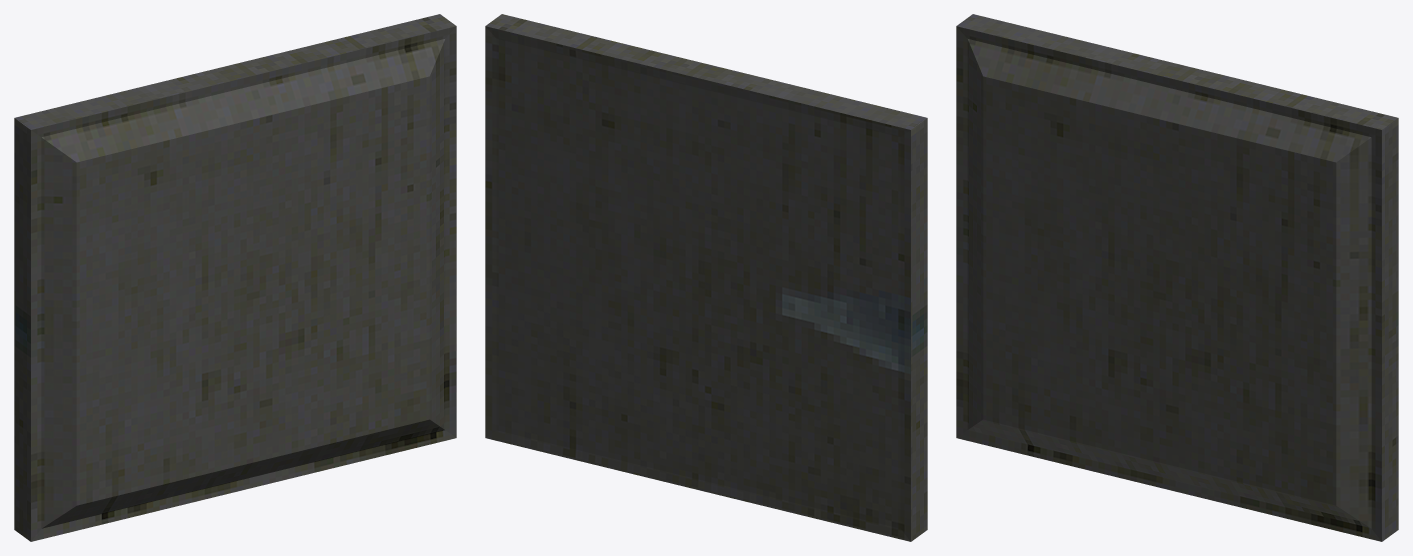
File: SM_BodyStorage_DR.fbx
The picture shows the model from 3 angles, left to right: view 1: azimuth 30°, elevation 25°; view 2: azimuth 150°, elevation 25°; view 3: azimuth 330°, elevation 25°; orthographic projection.
Parts seen in each view (by area): view 1: SM_BodyStorage_DR; view 2: SM_BodyStorage_DR; view 3: SM_BodyStorage_DR.
Boxes of the visible parts, box(x1,y1,x2,y2) form: SM_BodyStorage_DR: box(14, 14, 456, 541); SM_BodyStorage_DR: box(485, 14, 927, 541); SM_BodyStorage_DR: box(956, 14, 1398, 541).
Size of the model in its own units: 68.37 by 63.21 by 7.27.
